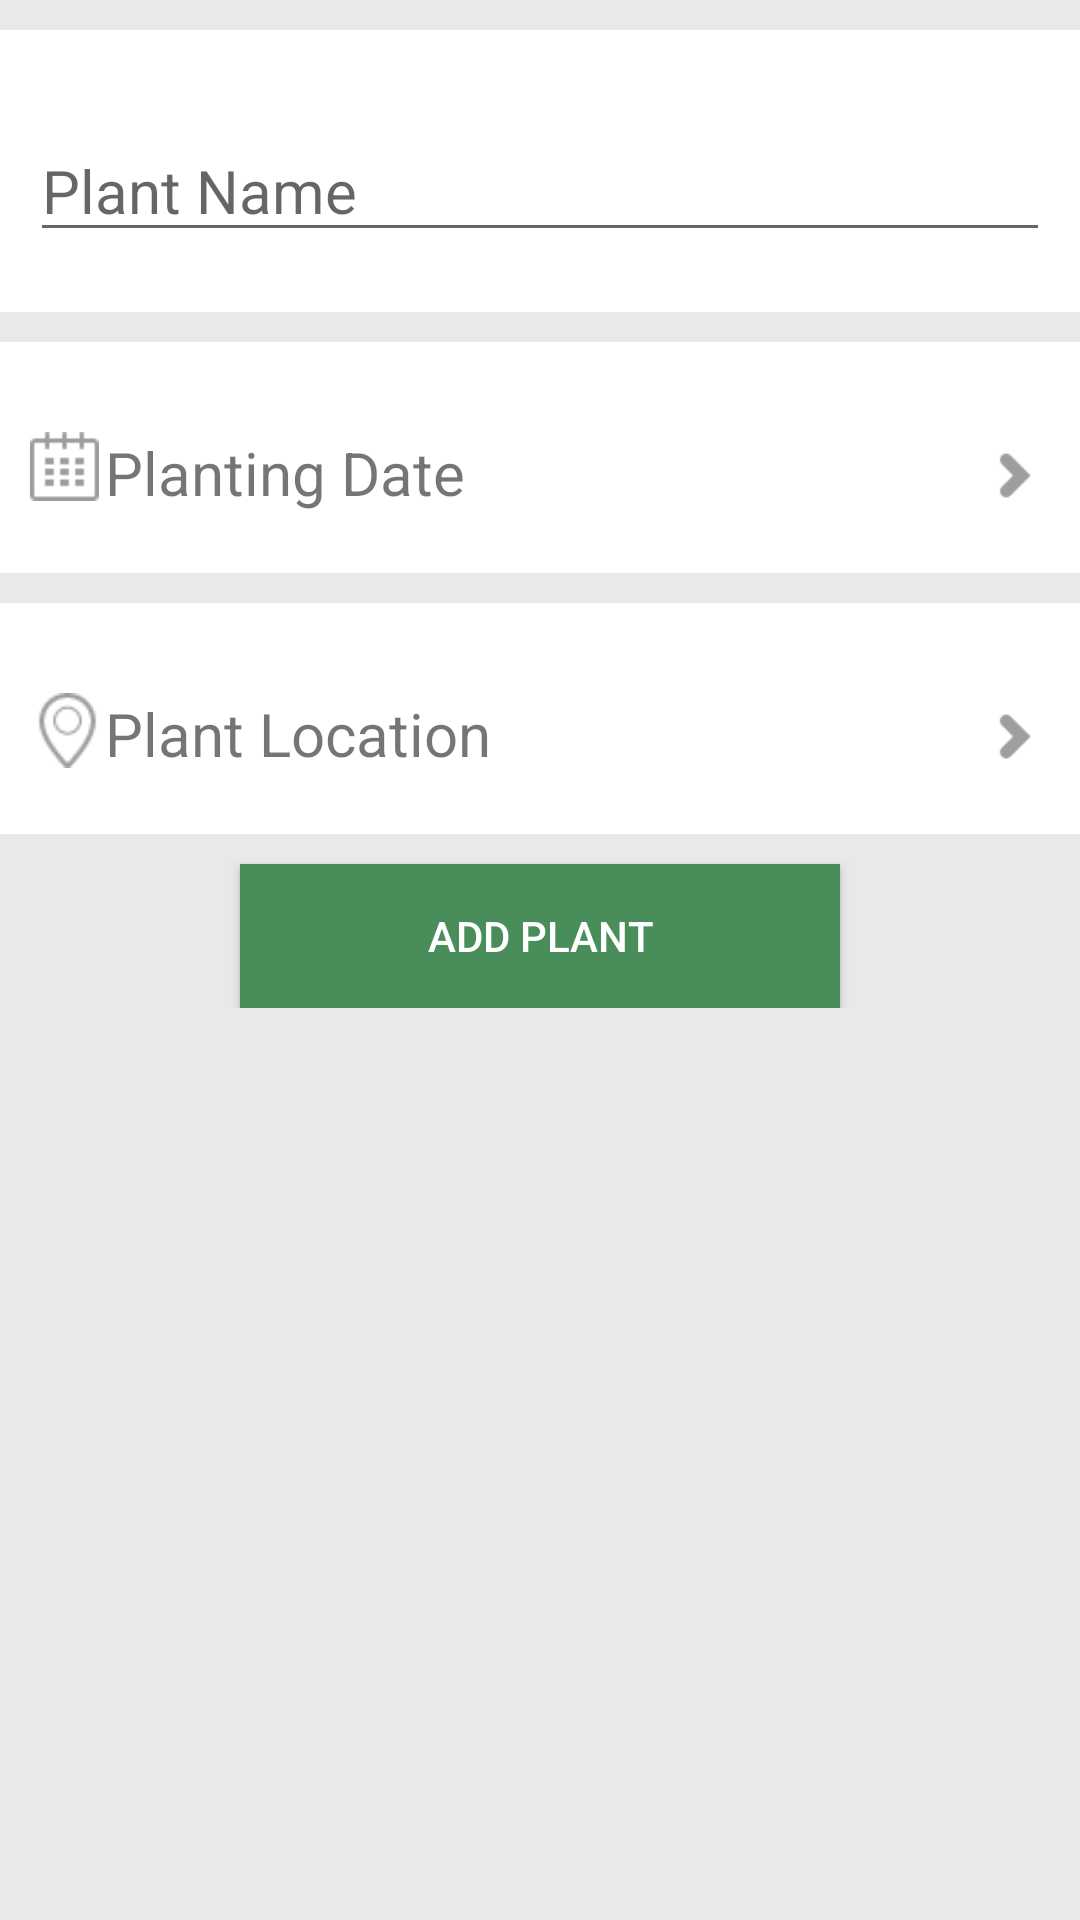

Screen size 1080×1920. Icon name, then its box in pixels as box=[x1, y1, x2, y2]:
calendar: box=[30, 432, 99, 501]
chevron right: box=[1000, 453, 1030, 498], box=[1000, 714, 1030, 759]
